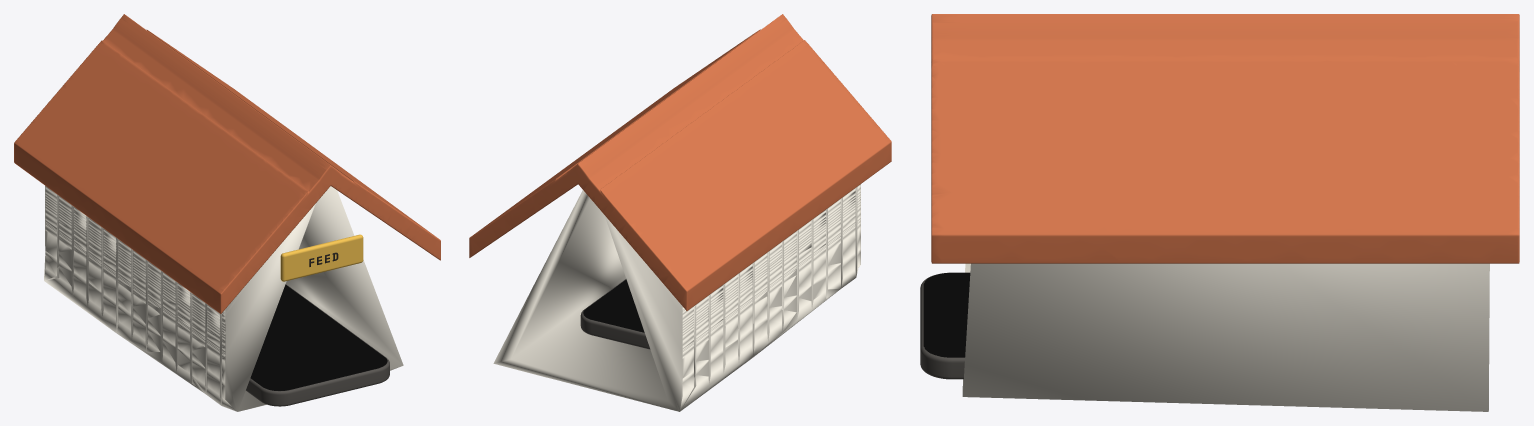
File: doghouse.glb
The picture shows the model from 3 angles, left to right: view 1: azimuth 30°, elevation 25°; view 2: azimuth 150°, elevation 25°; view 3: azimuth 270°, elevation 25°; orthographic projection. The views are drawn at different scales.
Parts seen in each view (by area): view 1: dog-walls, phone-screen, phone-frame; view 2: dog-walls, phone-screen, phone-frame; view 3: dog-walls, phone-screen, phone-frame.
Part boxes in pixels (x1=…): dog-walls: x1=14, y1=14, x2=440, y2=411; phone-screen: x1=250, y1=284, x2=387, y2=390; phone-frame: x1=246, y1=284, x2=389, y2=406; dog-walls: x1=469, y1=14, x2=891, y2=411; phone-screen: x1=583, y1=279, x2=644, y2=332; phone-frame: x1=580, y1=279, x2=650, y2=349; dog-walls: x1=931, y1=14, x2=1519, y2=411; phone-screen: x1=923, y1=272, x2=970, y2=357; phone-frame: x1=920, y1=272, x2=964, y2=379.
Bounding box in the file's own units: 0.1244 × 0.1276 × 0.2062.
Materials: 4 (4 with a texture image).
